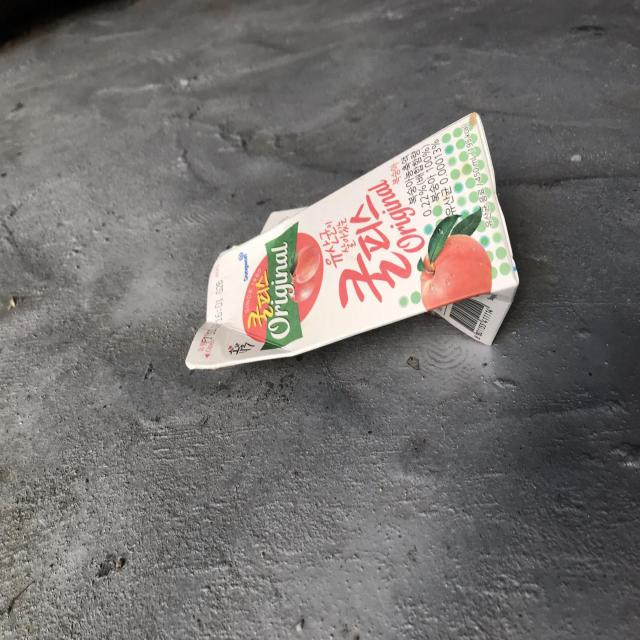paperpack: (186, 112, 520, 369)
